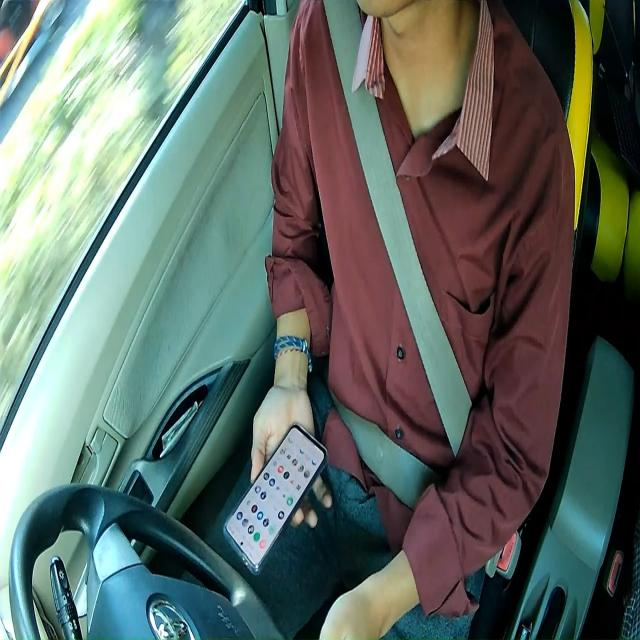phone: (220, 418, 328, 574)
